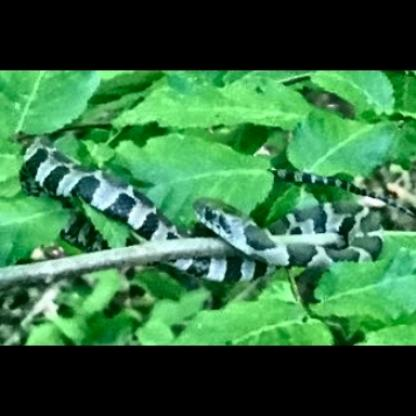Snake: (8, 84, 412, 324)
